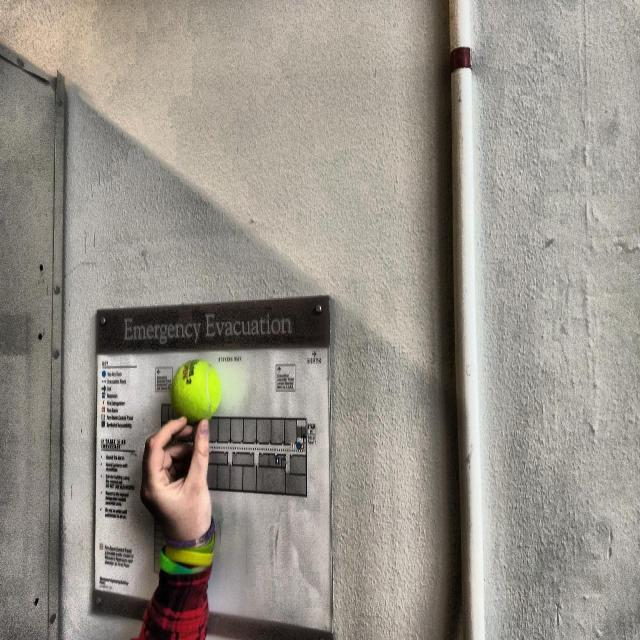tennis-ball: (173, 354, 217, 430)
